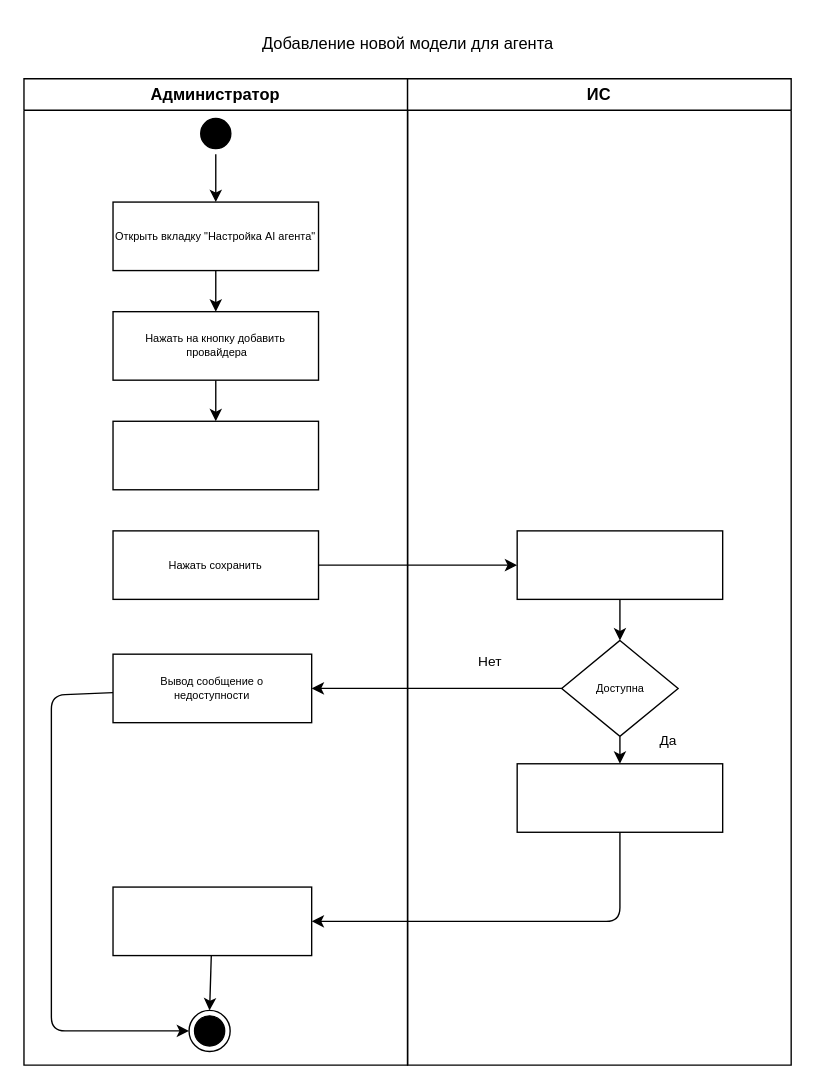
Image size: 815x1089. Some labels were removed from this diagram. Here are the shapes that lost their labels. From the top down, the centre of each, then its label:
At (x=215, y=455): "Ввести API ключ и название".
At (x=619, y=564): "Выполнение проверки доступности модели".
At (x=619, y=797): "Сохранение нового провайдера".
At (x=212, y=921): "Вывод сообщение об успешном сохранения".
